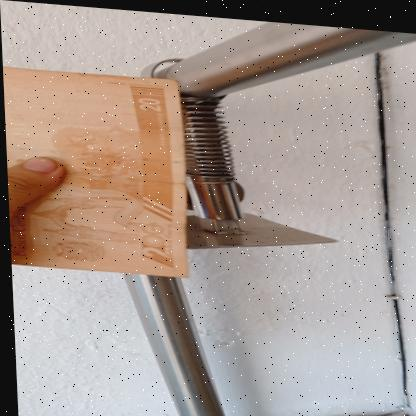twenty-back-vef: (2, 66, 188, 275)
